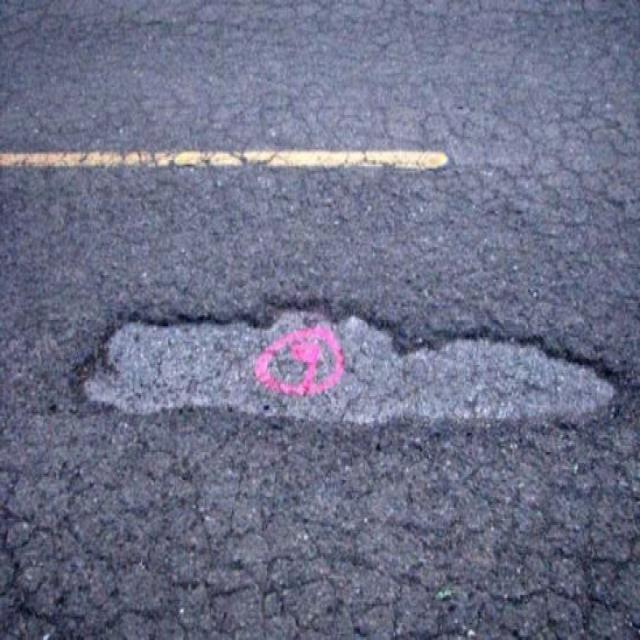Pothole: (71, 285, 626, 445)
